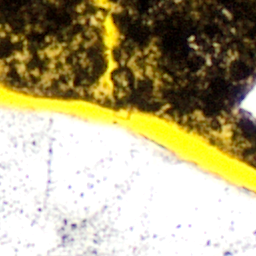cement_matrix: (103, 0, 255, 166), (0, 0, 106, 97), (47, 47, 60, 59), (17, 52, 25, 64), (42, 74, 51, 82)
cracks: (0, 0, 255, 193), (48, 48, 59, 58), (18, 53, 24, 63), (43, 75, 50, 81)
gravel_crushed_stones: (0, 105, 255, 255), (237, 79, 255, 121)
